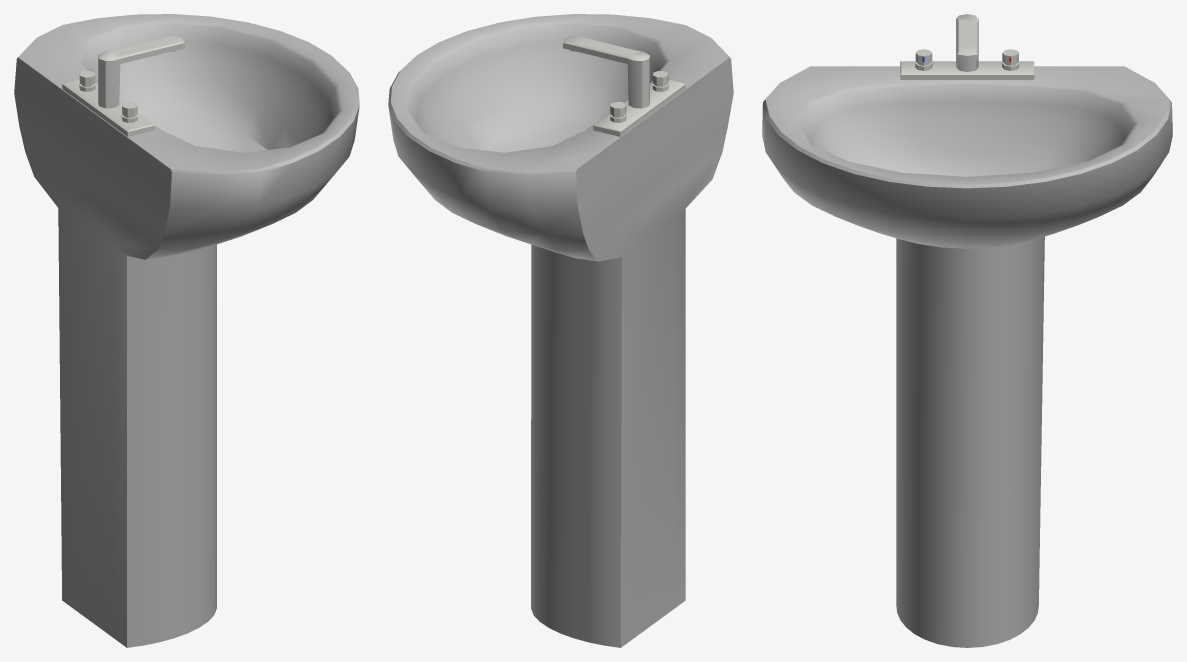
The model's file is bathroomSink.obj.
3 views of the same model, side by side, from view 1: azimuth 30°, elevation 25°; view 2: azimuth 150°, elevation 25°; view 3: azimuth 270°, elevation 25° (orthographic). The views are drawn at different scales.
Visible parts, largest first — view 1: Circle; view 2: Circle; view 3: Circle.
Part boxes in pixels (x1,y1,x2,y2): Circle: [14, 14, 359, 647]; Circle: [388, 14, 733, 647]; Circle: [762, 14, 1172, 647].
Size of the model in its own units: 0.3793 by 0.8435 by 0.5416.
